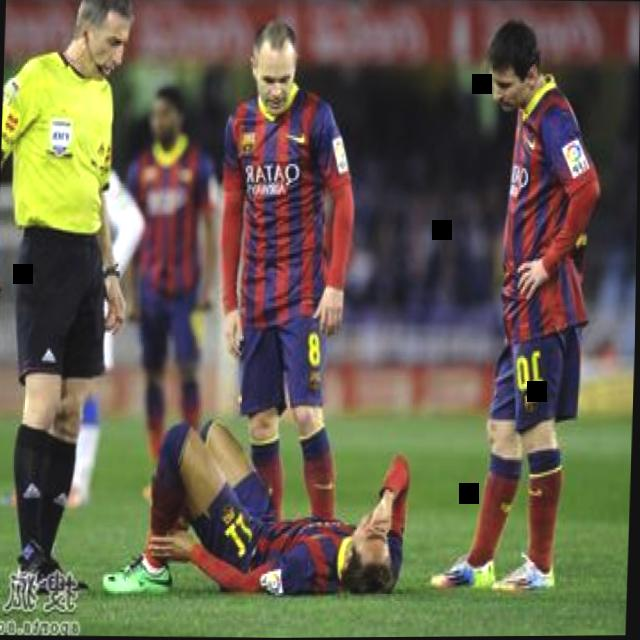Fall-Detected: (115, 402, 426, 601)
